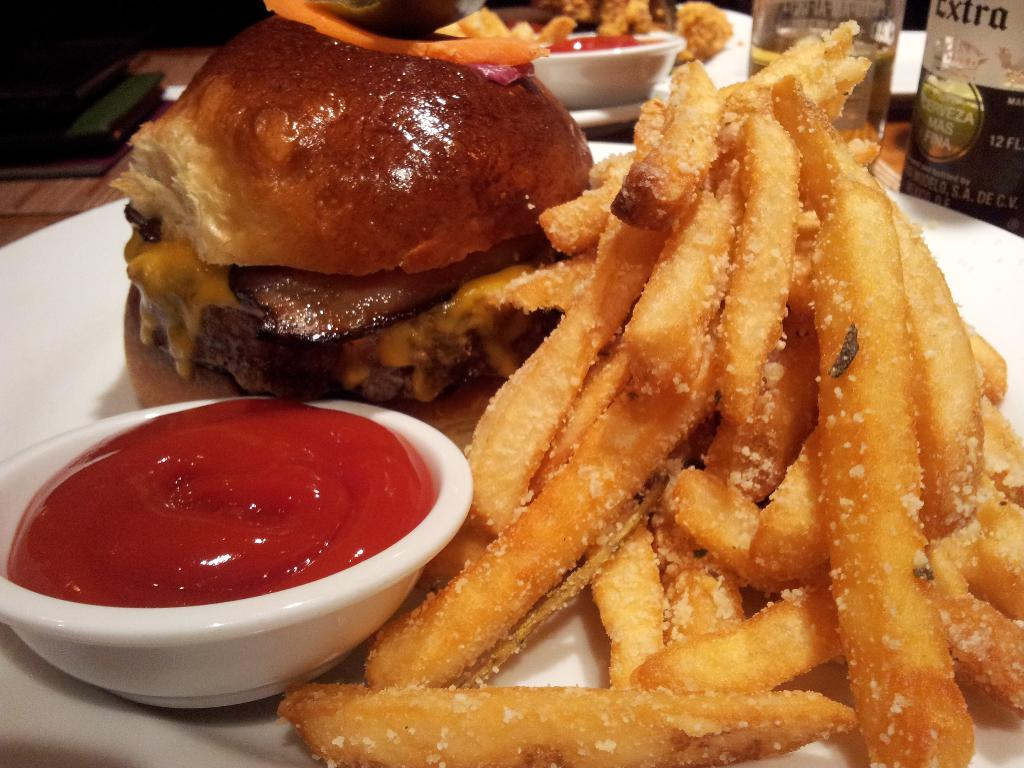French fries: (768, 65, 979, 767), (357, 312, 739, 697), (454, 209, 664, 533), (279, 681, 865, 767), (706, 80, 815, 430), (888, 169, 980, 542), (602, 142, 741, 387), (624, 561, 835, 697), (700, 272, 823, 501), (918, 526, 1023, 727), (608, 62, 721, 224), (727, 416, 828, 593), (574, 501, 666, 684), (663, 454, 758, 578), (945, 467, 1023, 609), (499, 259, 602, 331), (945, 305, 1011, 406), (968, 392, 1023, 501), (544, 185, 634, 243)
